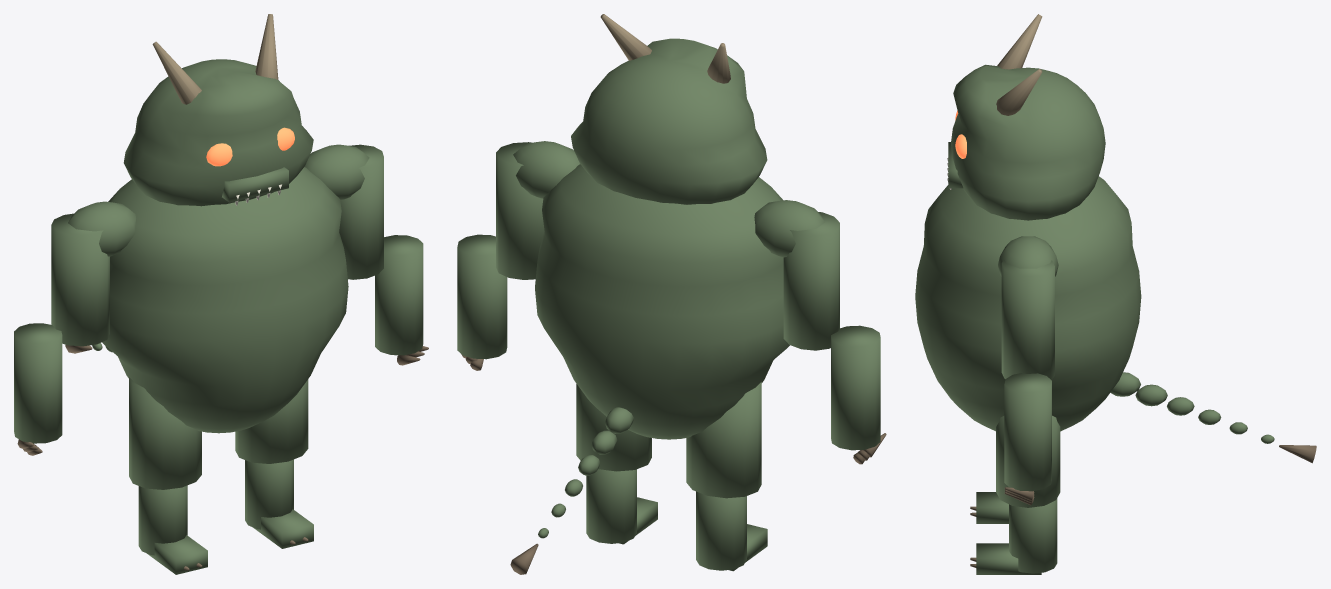
Rendered from enemy_creature.glb.
The picture shows the model from 3 angles, left to right: view 1: azimuth 30°, elevation 25°; view 2: azimuth 150°, elevation 25°; view 3: azimuth 270°, elevation 25°; orthographic projection. The views are drawn at different scales.
Visible parts, largest first — view 1: EnemyCreature; view 2: EnemyCreature; view 3: EnemyCreature.
Boxes of the visible parts, x1,y1,x2,y2 form: EnemyCreature: (14,14,428,574); EnemyCreature: (457,14,886,574); EnemyCreature: (915,14,1316,574).
Size of the model in its own units: 1.9 by 2.29 by 1.66.
